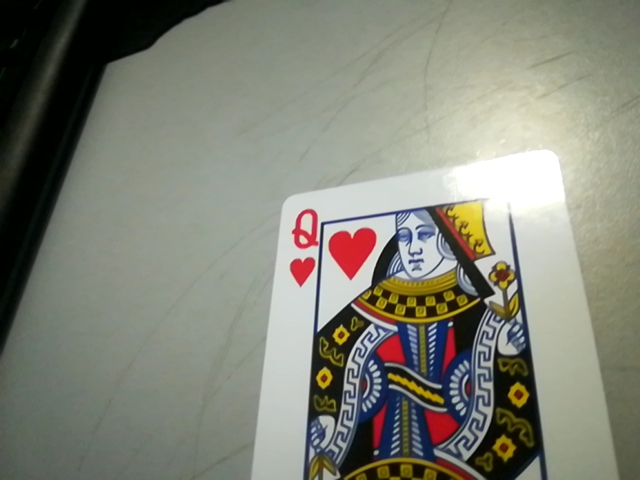hx q: (277, 202, 324, 289)
